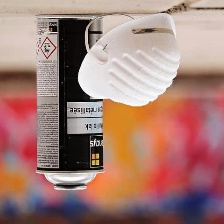aerosol_cans: (30, 10, 109, 196)
